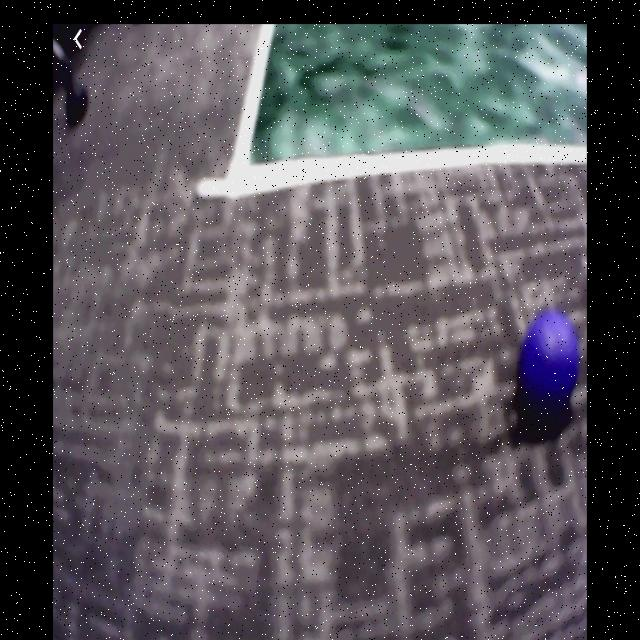ball: (518, 312, 582, 417)
